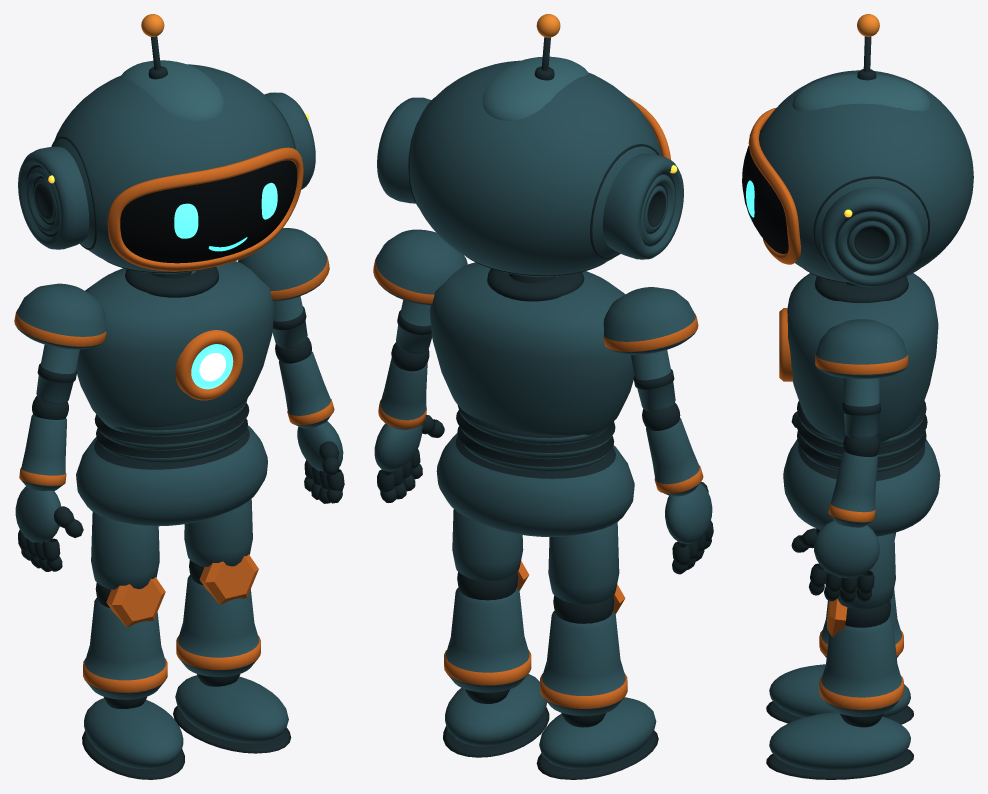
File: maximilian23.glb
3 views of the same model, side by side, from view 1: azimuth 30°, elevation 25°; view 2: azimuth 150°, elevation 25°; view 3: azimuth 270°, elevation 25° (orthographic). The views are drawn at different scales.
Visible parts, largest first — view 1: Pecho, Carcasa, Cadera, Pantalla, Espinilla_R, Espinilla_L, Auricular_R, Pie_L, Abdomen, Pie_R, Borde_Visor, Hombrera_R (+20 smaller); view 2: Carcasa, Pecho, Cadera, Espinilla_L, Espinilla_R, Auricular_R, Abdomen, Pie_R, Hombrera_R, Hombrera_L, Muslo_R, Pie_L (+16 smaller); view 3: Carcasa, Pecho, Auricular_L, Cadera, Espinilla_L, Pie_L, Hombrera_L, Panel_Superior, Abdomen, Antebrazo_L, Palma_L, Pie_R (+14 smaller).
Part boxes in pixels (<box>): Pecho: <box>76,261,274,433</box>; Carcasa: <box>52,64,294,273</box>; Cadera: <box>76,425,267,526</box>; Pantalla: <box>120,160,297,263</box>; Espinilla_R: <box>83,597,167,699</box>; Espinilla_L: <box>176,575,260,676</box>; Auricular_R: <box>18,146,89,249</box>; Pie_L: <box>175,675,288,743</box>; Abdomen: <box>94,398,249,462</box>; Pie_R: <box>84,698,183,769</box>; Borde_Visor: <box>107,147,303,271</box>; Hombrera_R: <box>14,283,106,349</box>; Carcasa: <box>408,60,661,276</box>; Pecho: <box>429,262,634,441</box>; Cadera: <box>436,433,634,536</box>; Espinilla_L: <box>444,587,531,692</box>; Espinilla_R: <box>540,611,627,716</box>; Auricular_R: <box>602,153,683,259</box>; Abdomen: <box>456,405,615,471</box>; Pie_R: <box>539,697,656,769</box>; Hombrera_R: <box>603,287,698,354</box>; Hombrera_L: <box>373,229,467,305</box>; Muslo_R: <box>548,522,619,604</box>; Pie_L: <box>445,674,547,746</box>; Carcasa: <box>759,70,973,283</box>; Pecho: <box>787,273,938,446</box>; Auricular_L: <box>820,186,923,287</box>; Cadera: <box>783,439,940,536</box>; Espinilla_L: <box>819,615,903,716</box>; Pie_L: <box>769,712,910,771</box>; Hombrera_L: <box>815,319,908,378</box>; Panel_Superior: <box>792,73,931,111</box>; Abdomen: <box>796,400,927,471</box>; Antebrazo_L: <box>828,450,877,527</box>; Palma_L: <box>814,520,879,577</box>; Pie_R: <box>769,664,910,717</box>.
Bounding box in the file's own units: 2.83 × 6.22 × 1.82.
